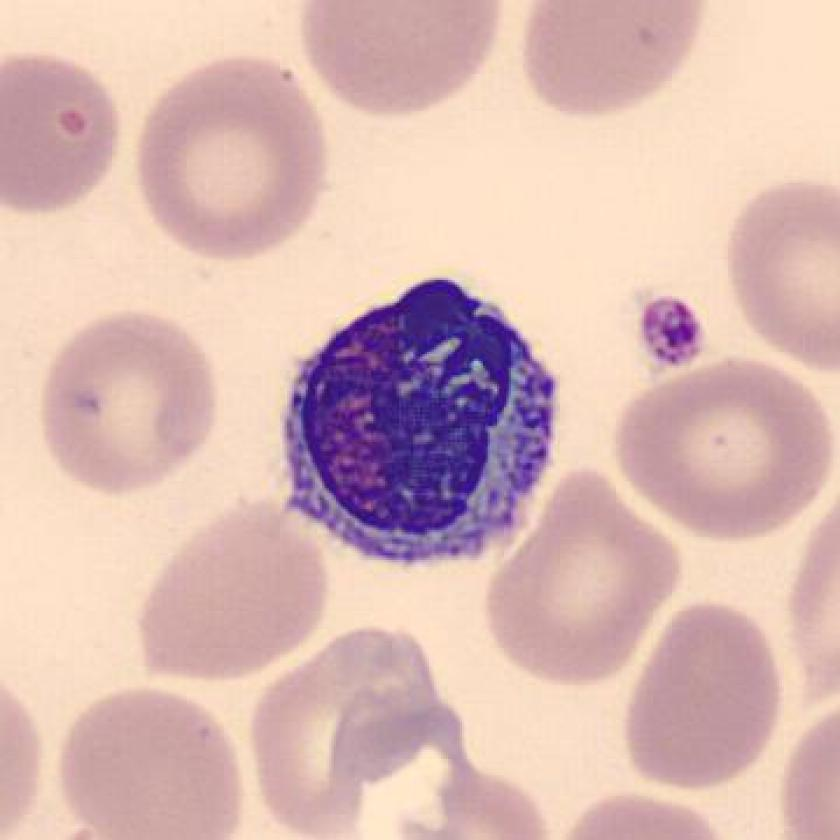lymphocyte: (260, 262, 580, 575)
